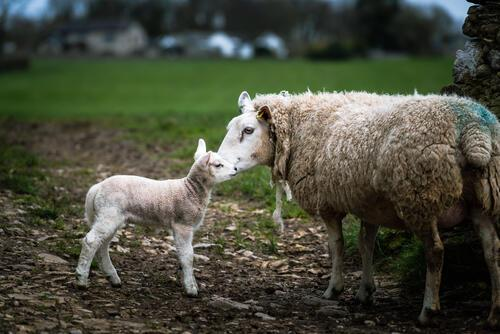sheep: (217, 90, 500, 326), (75, 138, 238, 296)
